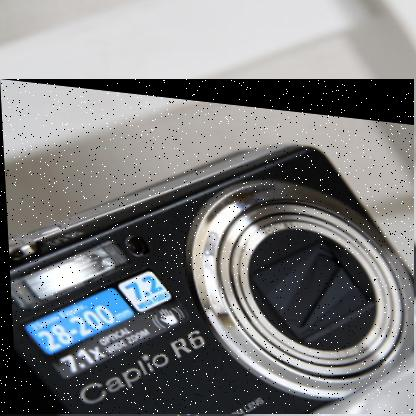Camera: (1, 80, 416, 416)
